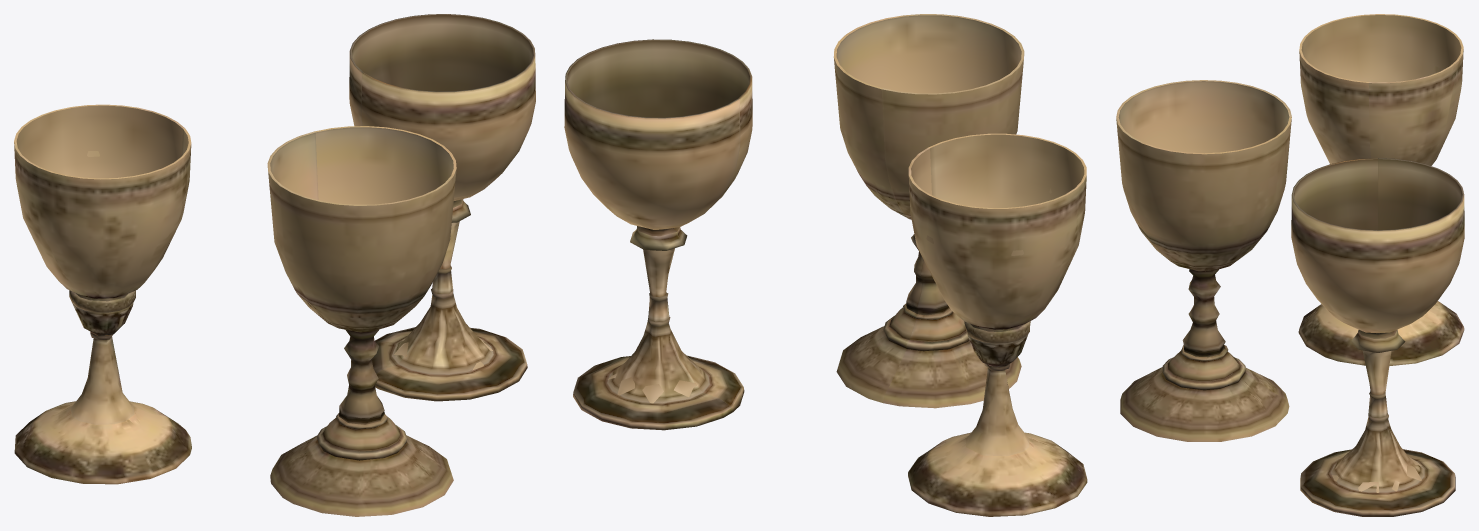
File: design-brass-goblets.glb
3 views of the same model, side by side, from view 1: azimuth 30°, elevation 25°; view 2: azimuth 150°, elevation 25°; view 3: azimuth 270°, elevation 25° (orthographic). The views are drawn at different scales.
Parts seen in each view (by area): view 1: brass_goblet_01, brass_goblet_02, brass_goblet_03; view 2: brass_goblet_02, brass_goblet_03, brass_goblet_01; view 3: brass_goblet_01, brass_goblet_03, brass_goblet_02.
Boxes of the visible parts, x1=… form: brass_goblet_01: x1=267, y1=126, x2=456, y2=516; brass_goblet_02: x1=14, y1=104, x2=191, y2=484; brass_goblet_03: x1=349, y1=14, x2=535, y2=401; brass_goblet_02: x1=908, y1=133, x2=1087, y2=516; brass_goblet_03: x1=564, y1=39, x2=752, y2=430; brass_goblet_01: x1=833, y1=14, x2=1024, y2=408; brass_goblet_01: x1=1116, y1=80, x2=1291, y2=441; brass_goblet_03: x1=1291, y1=158, x2=1464, y2=516; brass_goblet_02: x1=1298, y1=14, x2=1464, y2=365.
Bounding box in the file's own units: 0.4527 × 0.2734 × 0.2969.
3 materials, 3 textured.
